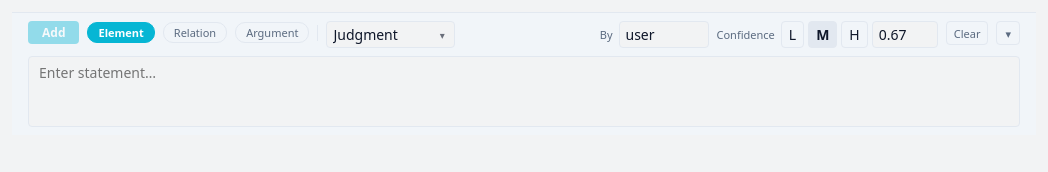
it: minimising the bar › says which tab it was left on, so the reader knows what is folded
The width and height of the screenshot is (1048, 172).
What coordinates should you click on to do the following:
click the button "Argument"
I would click on:
 (272, 32)
Its box is left=235, top=22, right=309, bottom=43.
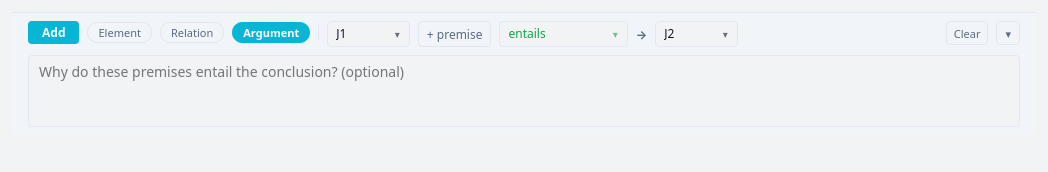
What coordinates should you click on to do the following:
click the button named "Minimise the add bar"
I would click on:
 (1008, 33)
Its box is left=996, top=21, right=1020, bottom=45.
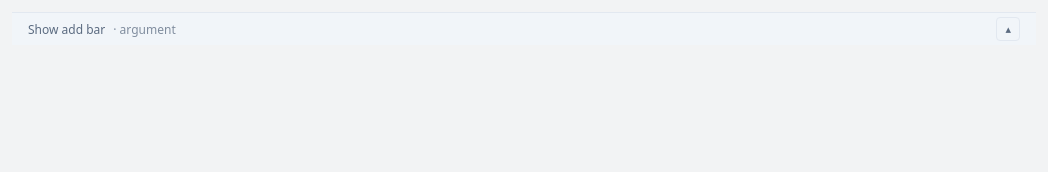
Now the button "Show add bar · argument ▴" is shown, box left=12, top=13, right=1036, bottom=45
